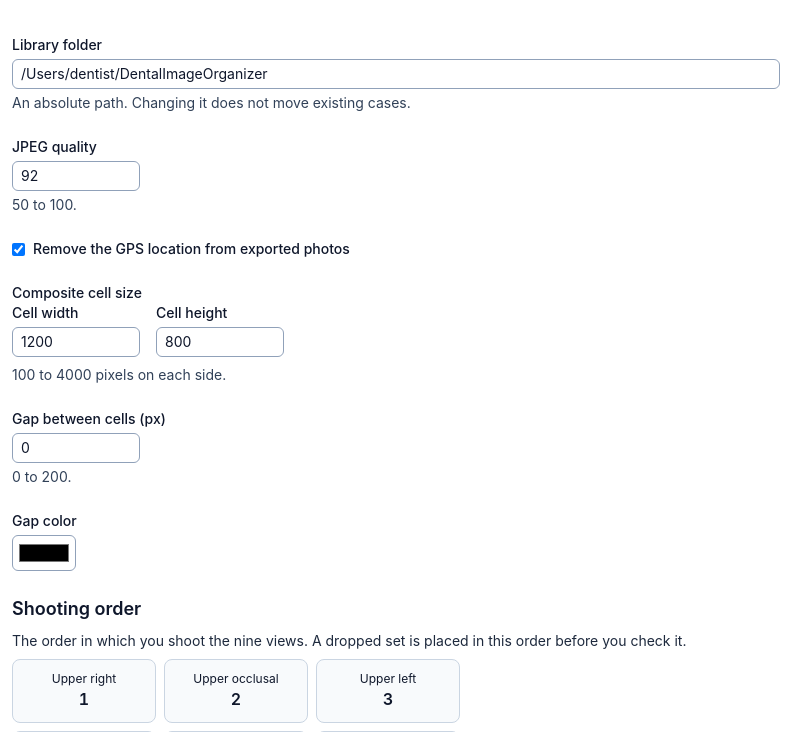
it: SettingsScreen › discarding restores the saved settings
Step 1. Replace the text in the number field labelled "JPEG quality" with "70" → (76, 176), box [12,161,140,191]
(page scrolled)
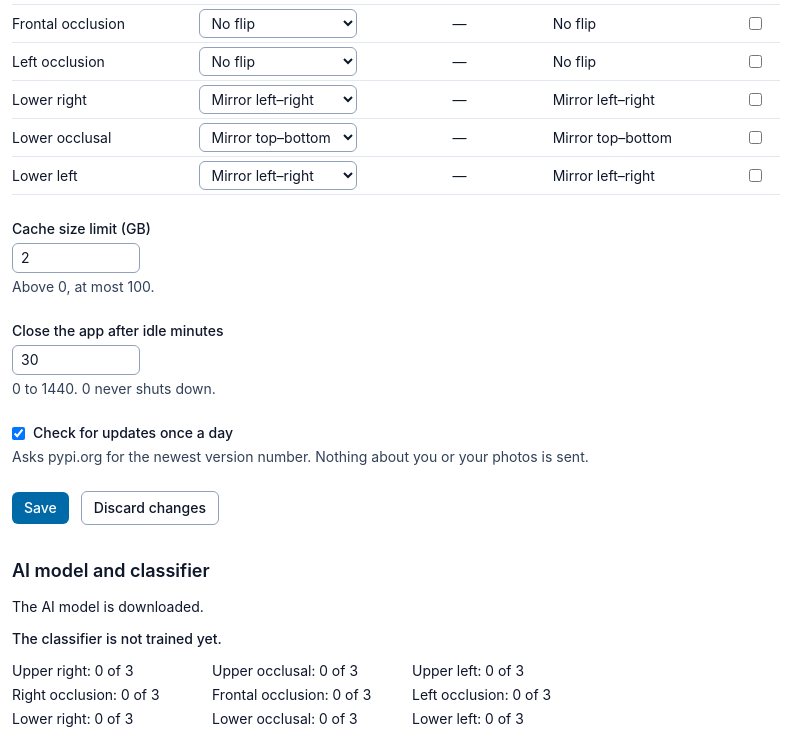
Step 2. Click the button "Discard changes" → (150, 508), box [81,491,219,525]
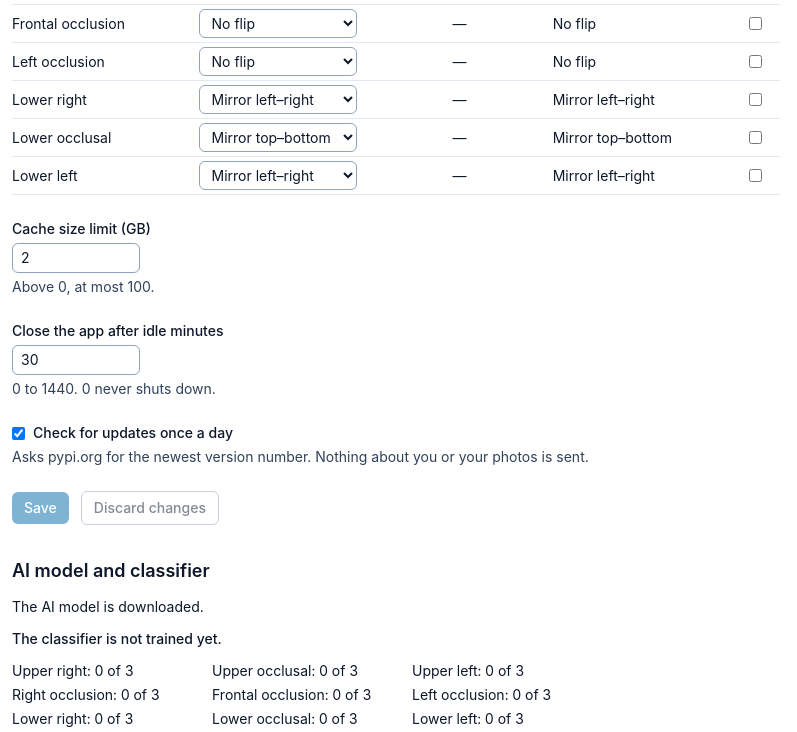
expect the button "Save" is disabled: met, box [12,492,69,524]
